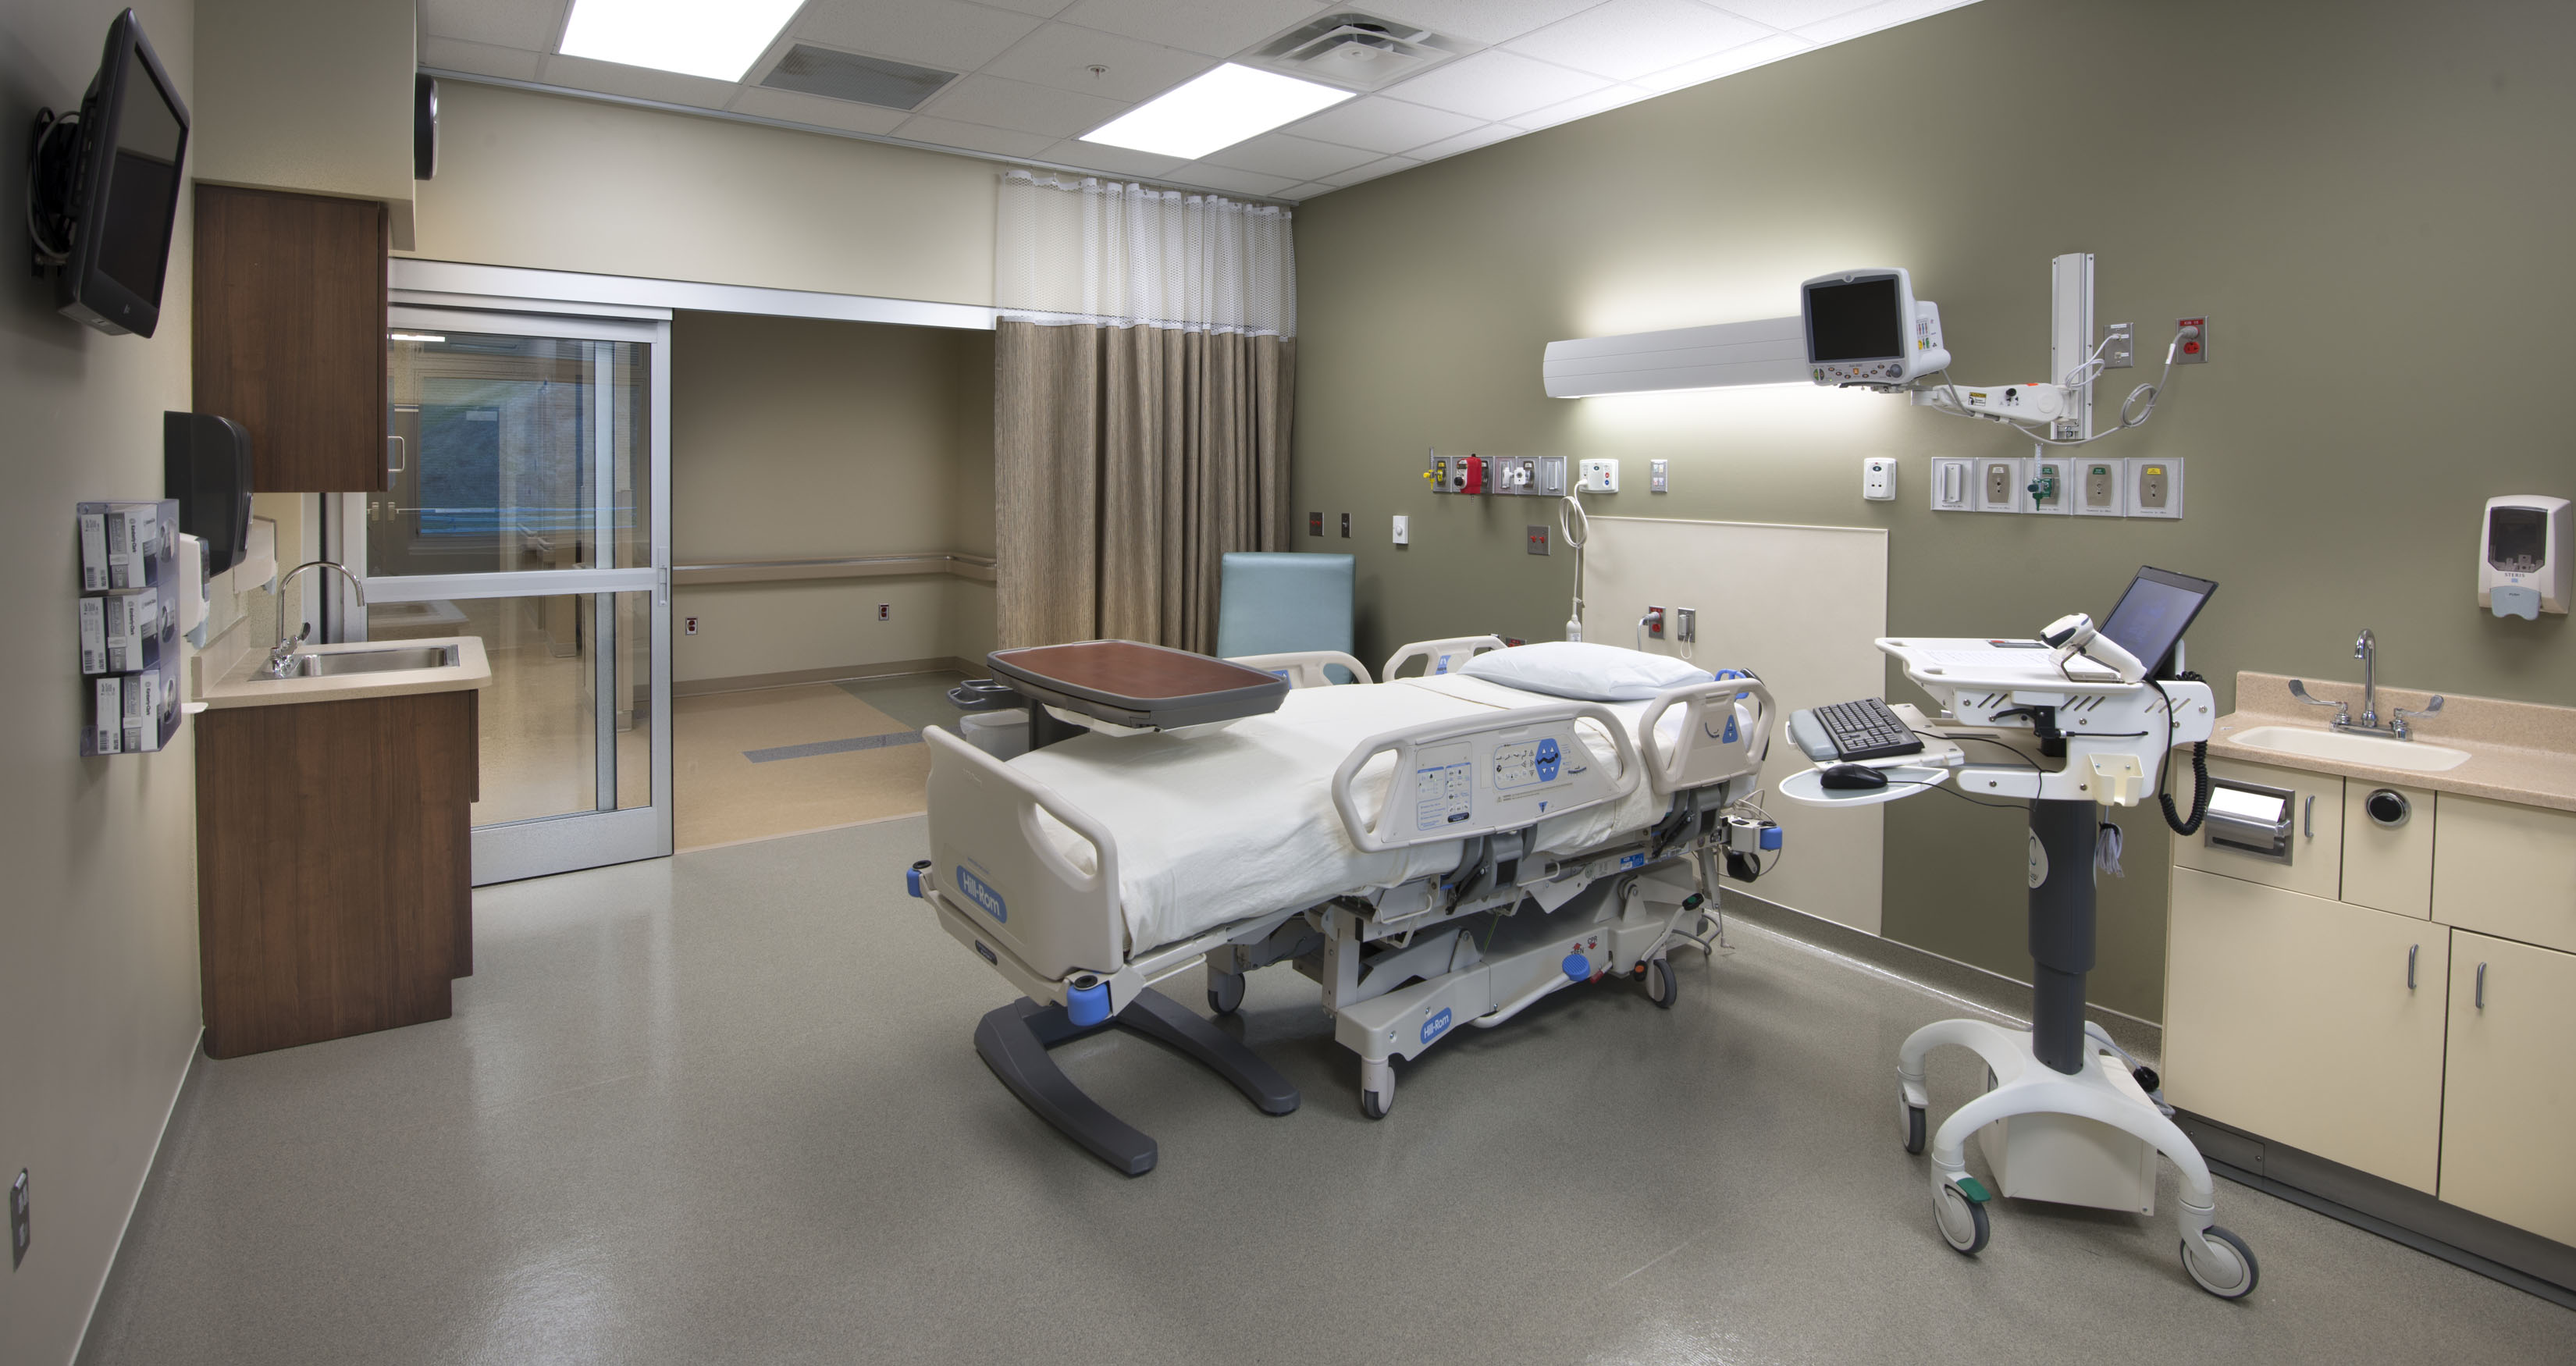TV: (61, 3, 193, 347)
bedrail: (1334, 702, 1641, 853), (1165, 649, 1380, 741), (1639, 678, 1775, 795), (1383, 635, 1518, 692)
bedside_monitor: (1797, 267, 1917, 388)
cabinet: (196, 175, 416, 474)
chair: (1232, 543, 1360, 663)
computer: (2077, 564, 2220, 680)
counter: (2171, 678, 2564, 1300), (199, 654, 504, 1019)
countertop: (2196, 707, 2576, 814), (198, 627, 489, 698)
curtain: (992, 169, 1295, 744)
dispenser: (80, 508, 186, 748), (145, 387, 267, 574), (2479, 494, 2573, 618), (177, 537, 213, 722)
door_handle: (658, 565, 673, 605)
faucet: (2286, 627, 2445, 741), (264, 557, 370, 674)
foot_board: (906, 722, 1124, 1027)
hallway_assist_bar: (600, 552, 997, 596), (511, 525, 538, 545), (535, 543, 562, 562)
handle: (2293, 795, 2332, 858), (2464, 952, 2498, 1022), (2394, 935, 2426, 1007), (375, 428, 407, 485)
hospital_bed: (910, 639, 1784, 1177)
keyboard: (1789, 697, 1925, 761)
mouse: (1821, 761, 1888, 789)
overbed_table: (975, 646, 1291, 1177)
sink: (232, 630, 482, 692), (2223, 724, 2475, 773)
